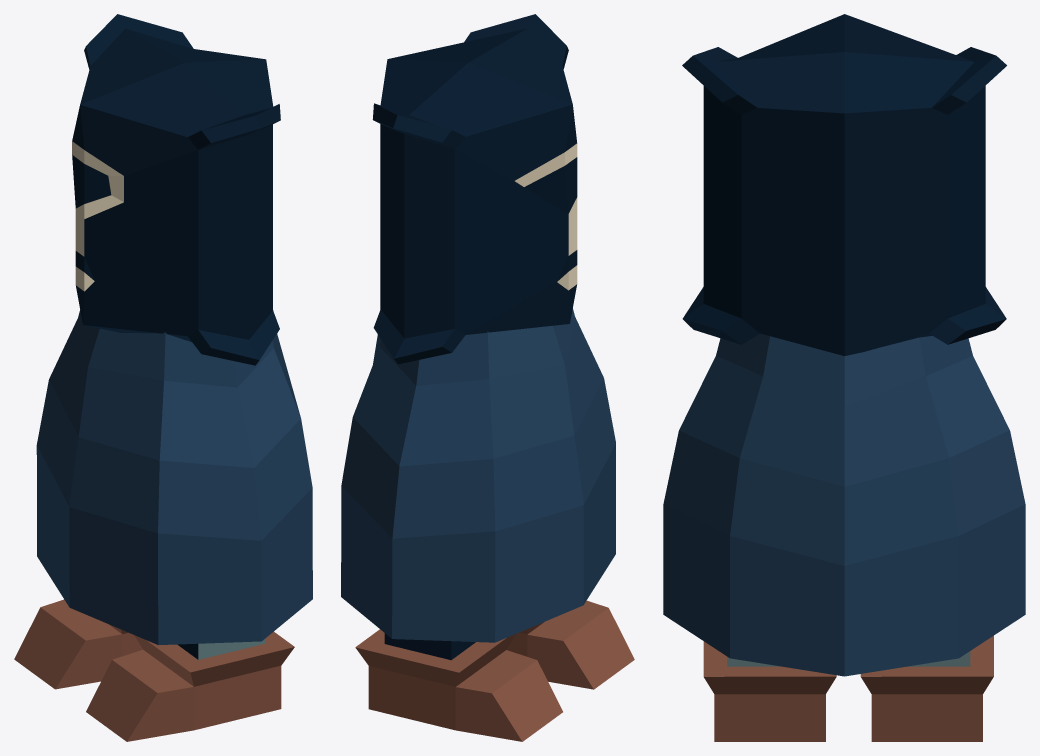
File: SK_UnknownCharacter.fbx
The picture shows the model from 3 angles, left to right: view 1: azimuth 30°, elevation 25°; view 2: azimuth 150°, elevation 25°; view 3: azimuth 270°, elevation 25°; orthographic projection. The views are drawn at different scales.
Visible parts, largest first — view 1: SK_Character.006; view 2: SK_Character.006; view 3: SK_Character.006.
Part boxes in pixels (x1,y1,x2,y2): SK_Character.006: (14,14,312,741); SK_Character.006: (341,14,634,741); SK_Character.006: (663,14,1025,741).
Bounding box in the file's own units: 50.24 × 130 × 63.84.
